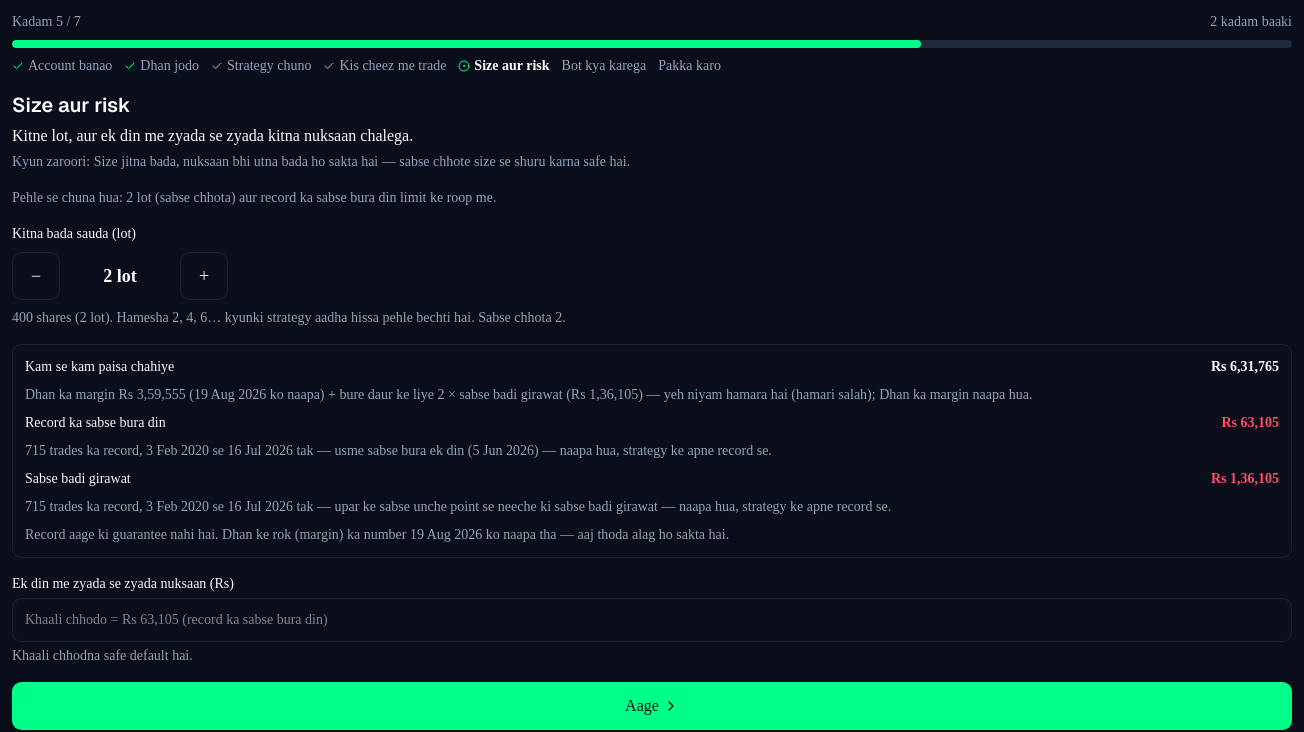
every screen has a way forward, a way back and the guide › the SIZE screen only LOOKS UP the server's numbers for each choice
Expected: the element with test id "screen-SIZE" is shown, top-left (12, 224), bottom-right (1292, 666)
Expected: the element with test id "size-numbers" shows "Rs 6,31,765", top-left (1211, 358), bottom-right (1279, 374)
Click the button named "Badhao" at (204, 276), box top-left (180, 252), bottom-right (228, 300)
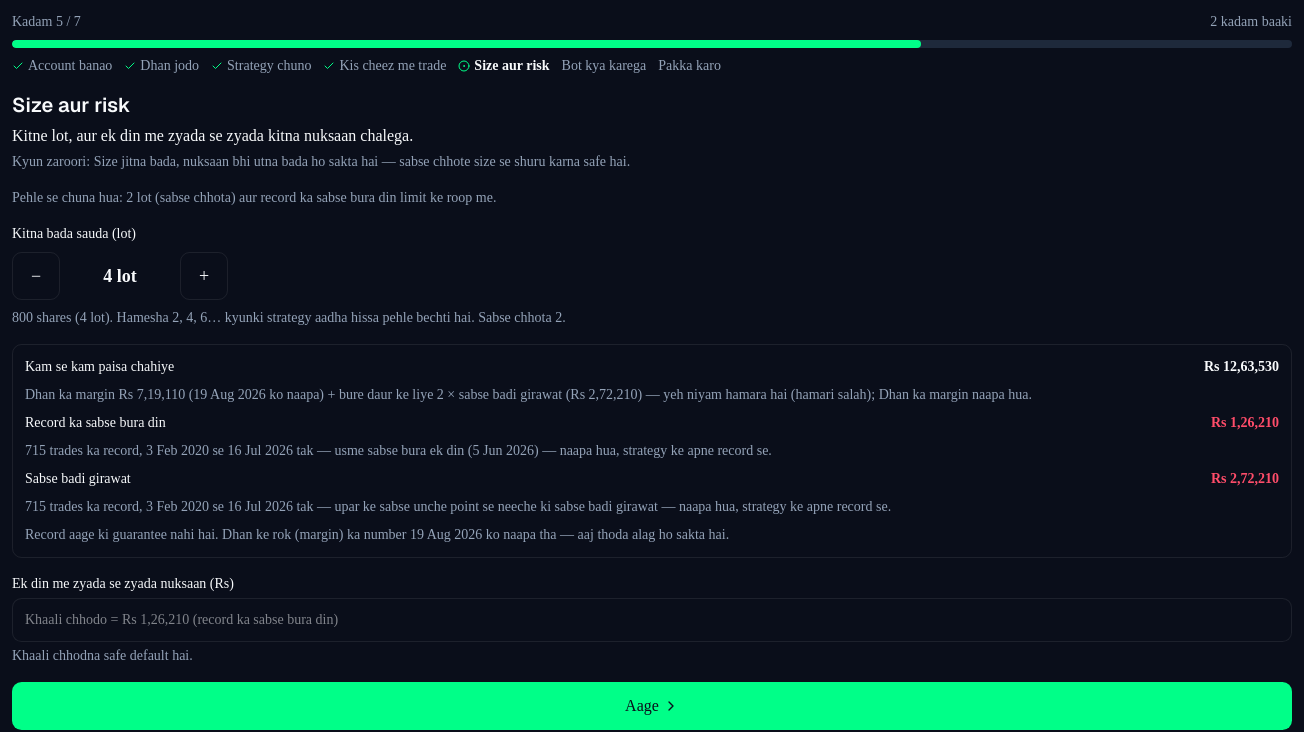
Expected: the text with test id "size-lots" reads "4 lot", top-left (103, 266), bottom-right (137, 286)
